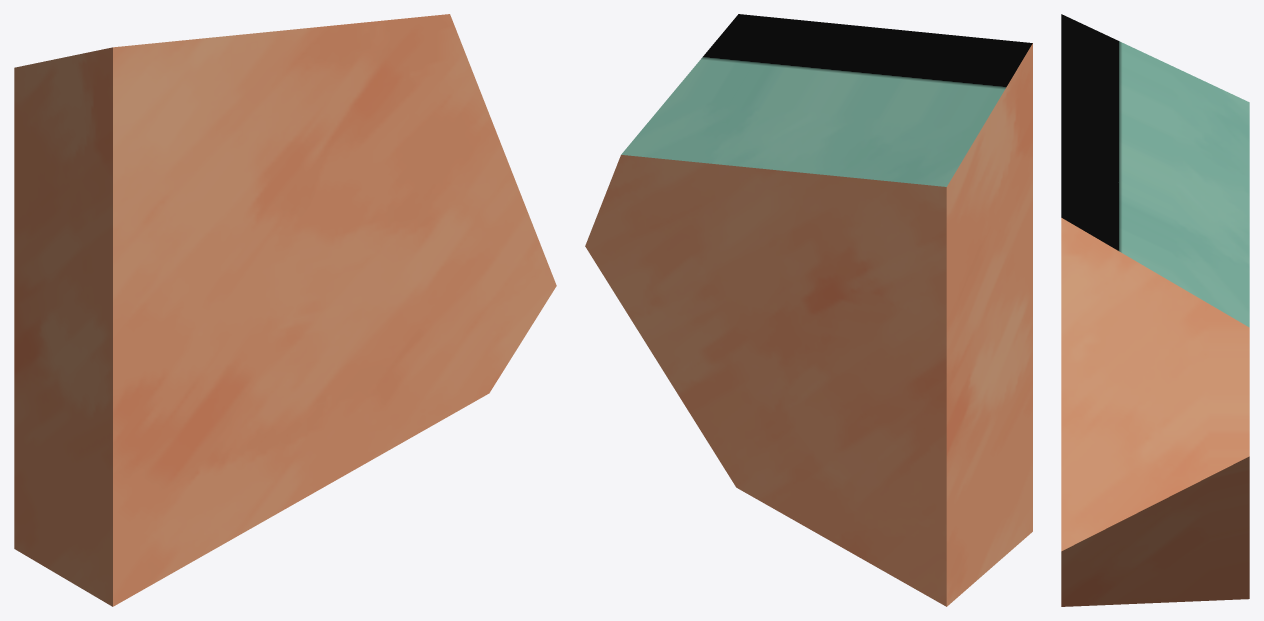
The model's file is wall_plain_s03.fbx.
3 renders of one model, left to right at view 1: azimuth 30°, elevation 25°; view 2: azimuth 150°, elevation 25°; view 3: azimuth 270°, elevation 25°, orthographic. The views are drawn at different scales.
Parts seen in each view (by area): view 1: wall_plain_s03; view 2: wall_plain_s03; view 3: wall_plain_s03.
Boxes of the visible parts, left/top/right/bottom form: wall_plain_s03: left=14, top=14, right=556, bottom=606; wall_plain_s03: left=585, top=14, right=1032, bottom=606; wall_plain_s03: left=1061, top=14, right=1249, bottom=606.
Bounding box in the file's own units: 2.6 × 3.21 × 1.
